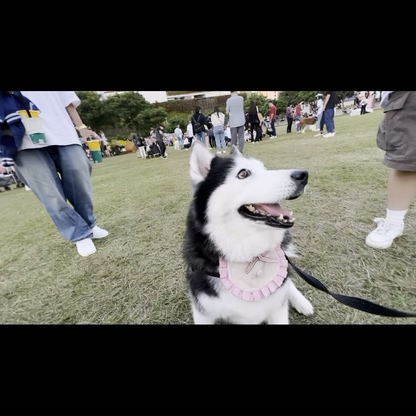husky: (172, 134, 322, 323)
